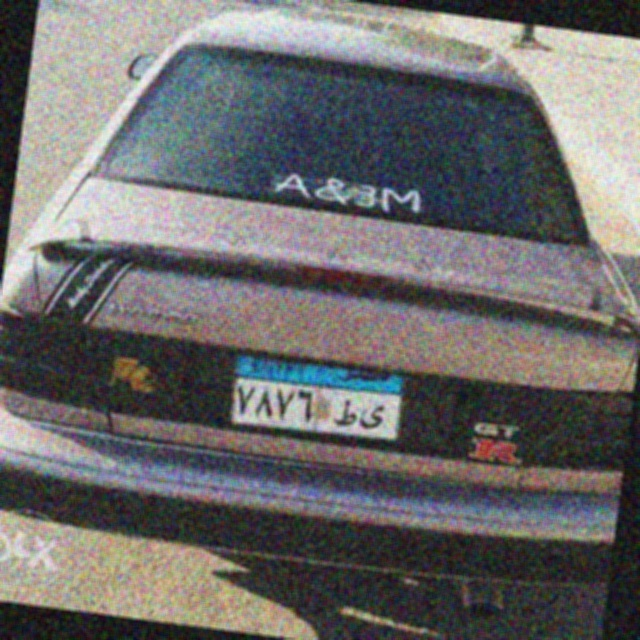License Plate: (226, 349, 411, 449)
